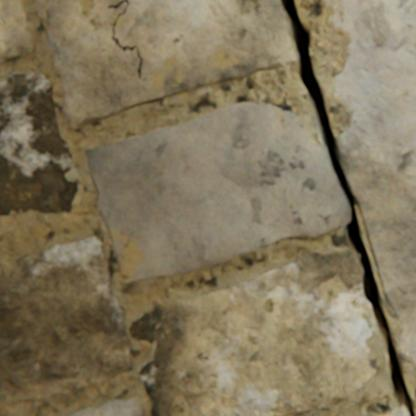brick: (86, 102, 350, 283), (130, 249, 375, 415), (35, 0, 296, 129), (326, 0, 415, 363), (0, 237, 133, 409), (0, 71, 78, 215), (0, 0, 36, 63), (64, 395, 145, 415), (380, 405, 409, 415)
crack: (280, 0, 413, 415), (108, 0, 143, 78)
